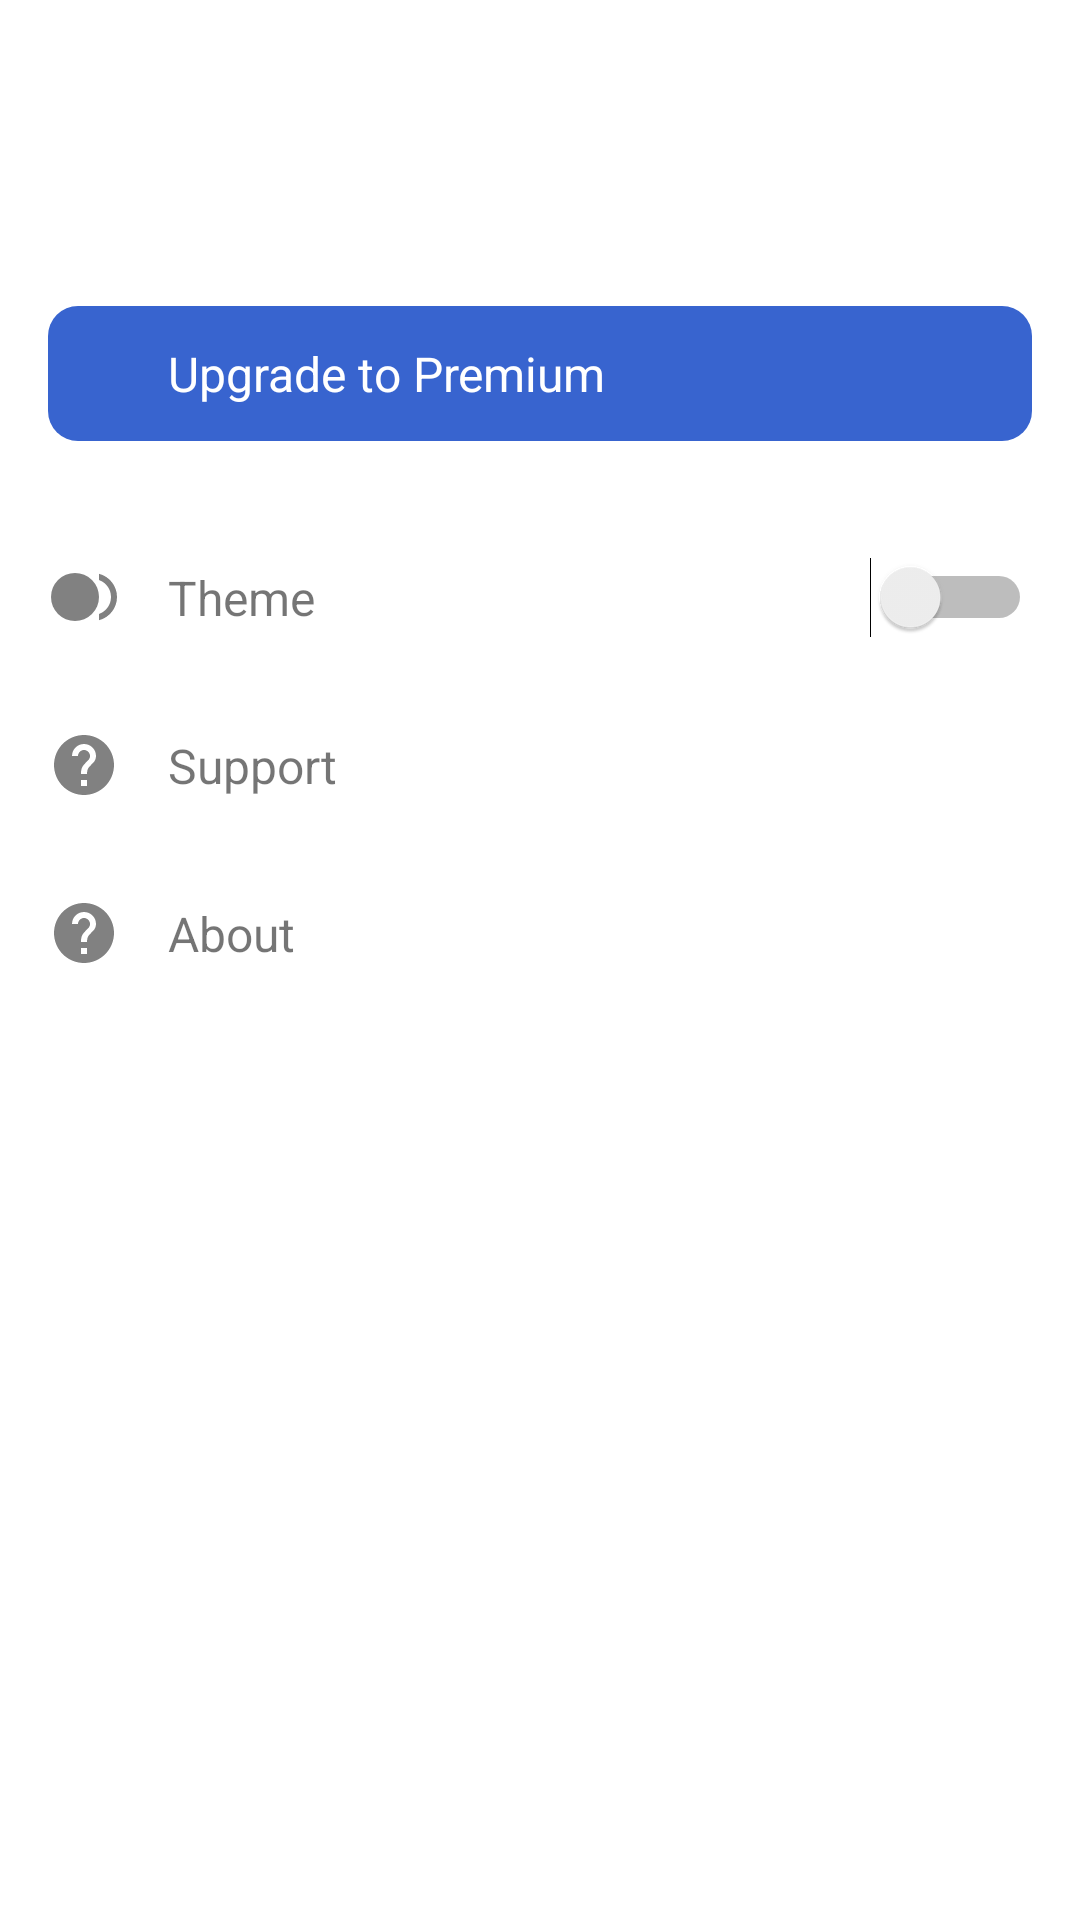

Icon click points for this 1080px×1920px phone screenshot, format (x=x, y=y):
fiber smart record: (x=84, y=597)
help: (x=84, y=765), (x=84, y=933)
